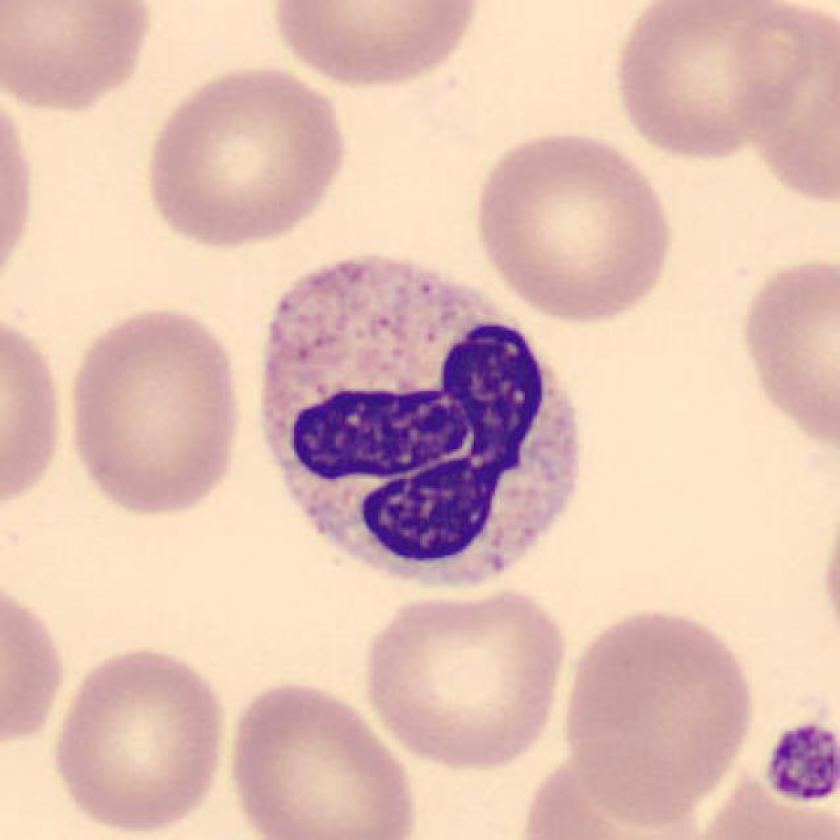neutrophil: (268, 253, 581, 580)
